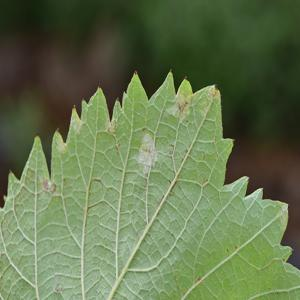Folha: (0, 57, 300, 300)
Fungo: (137, 132, 158, 175), (106, 118, 120, 154), (174, 92, 190, 121), (55, 128, 68, 154), (42, 176, 57, 196), (176, 98, 188, 116), (107, 118, 117, 134), (43, 176, 50, 192), (50, 182, 57, 195), (54, 283, 63, 293), (193, 274, 201, 284), (282, 256, 286, 266), (214, 83, 217, 89), (234, 245, 237, 250), (226, 248, 228, 252)
